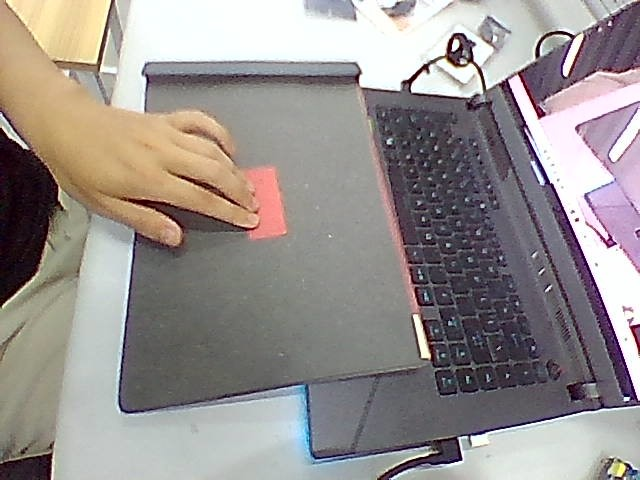card: (247, 166, 287, 239)
